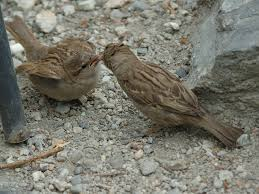hsparrow: (101, 42, 244, 157), (5, 15, 101, 107)
